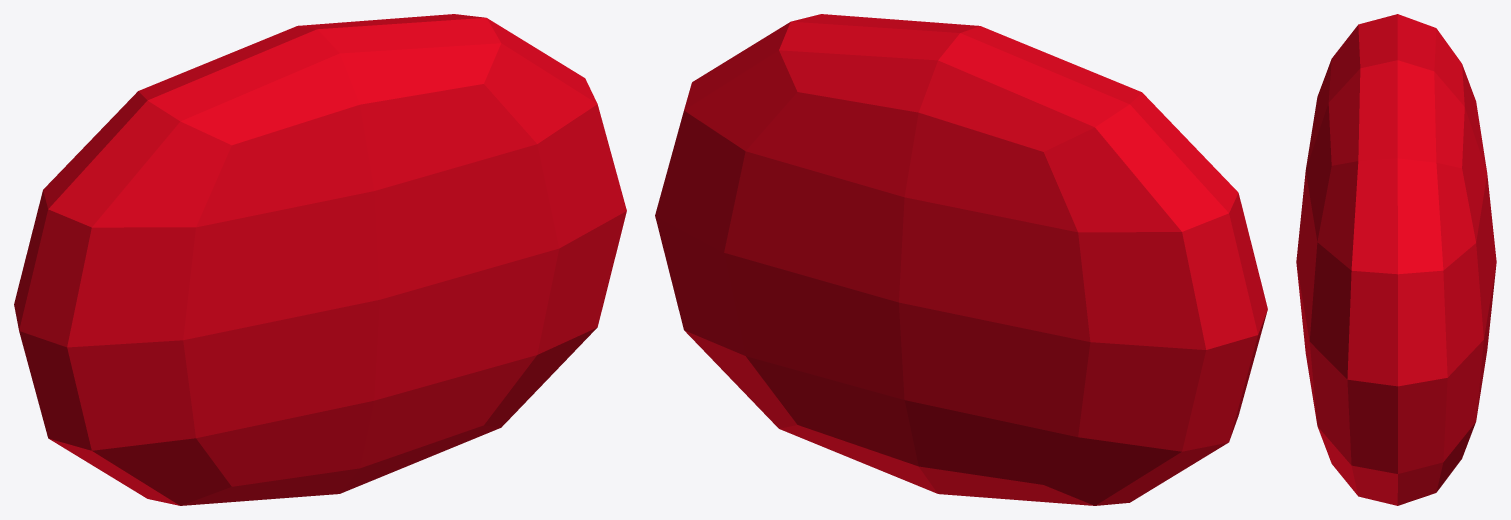
File: FaceBox.fbx
3 views of the same model, side by side, from view 1: azimuth 30°, elevation 25°; view 2: azimuth 150°, elevation 25°; view 3: azimuth 270°, elevation 25° (orthographic). The views are drawn at different scales.
Visible parts, largest first — view 1: Cube; view 2: Cube; view 3: Cube.
Part boxes in pixels (x1,y1,x2,y2): Cube: (14, 14, 626, 505); Cube: (655, 14, 1267, 505); Cube: (1296, 14, 1496, 505).
Size of the model in its own units: 23.11 by 17.01 by 7.73.
